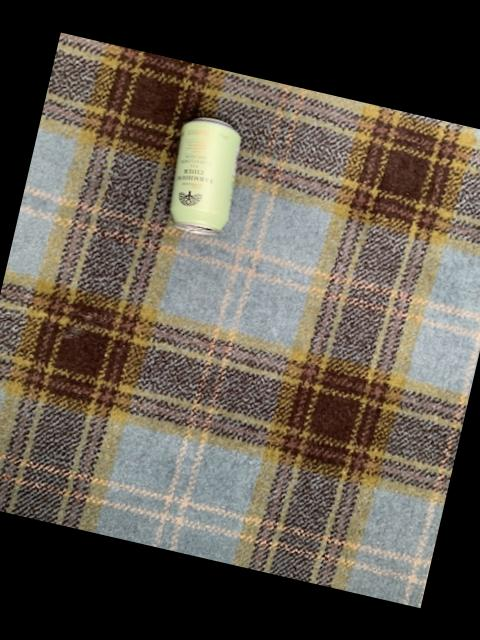metal: (171, 116, 241, 233)
